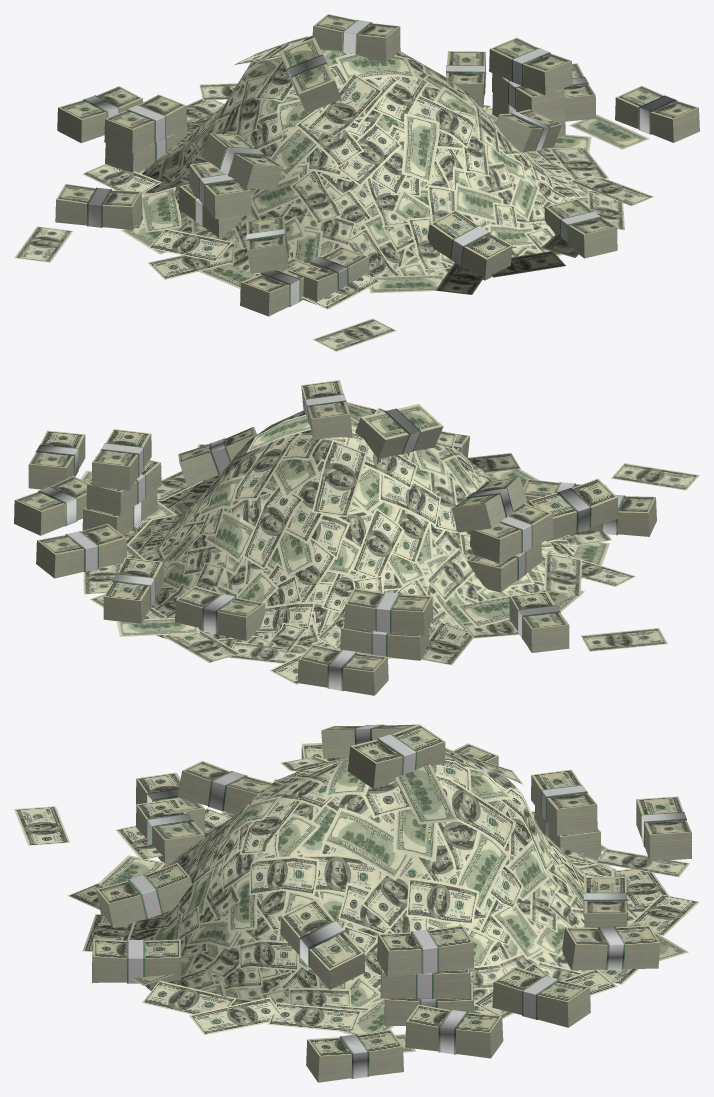
File: cashpile 4.fbx
3 renders of one model, top to bottom at view 1: azimuth 30°, elevation 25°; view 2: azimuth 150°, elevation 25°; view 3: azimuth 270°, elevation 25°, orthographic. The views are drawn at different scales.
Parts seen in each view (by area): view 1: cashpile_04; view 2: cashpile_04; view 3: cashpile_04.
Boxes of the visible parts, x1=… form: cashpile_04: x1=14, y1=14, x2=699, y2=351; cashpile_04: x1=14, y1=380, x2=699, y2=695; cashpile_04: x1=14, y1=724, x2=699, y2=1082.
Bounding box in the file's own units: 145 × 34.42 × 120.
